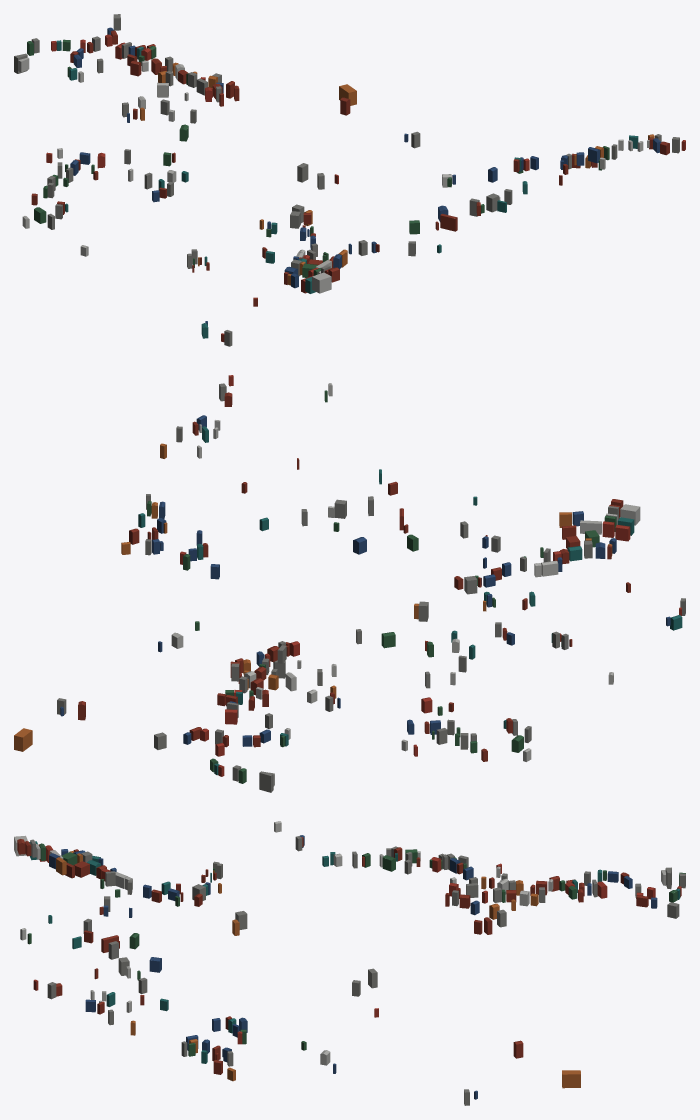
The model's file is near-15-27365-14860.304b2e99.glb.
3 views of the same model, one above another, from view 1: azimuth 30°, elevation 25°; view 2: azimuth 150°, elevation 25°; view 3: azimuth 270°, elevation 25° (orthographic). The views are drawn at different scales.
Size of the model in its own units: 970 by 293 by 1122.
